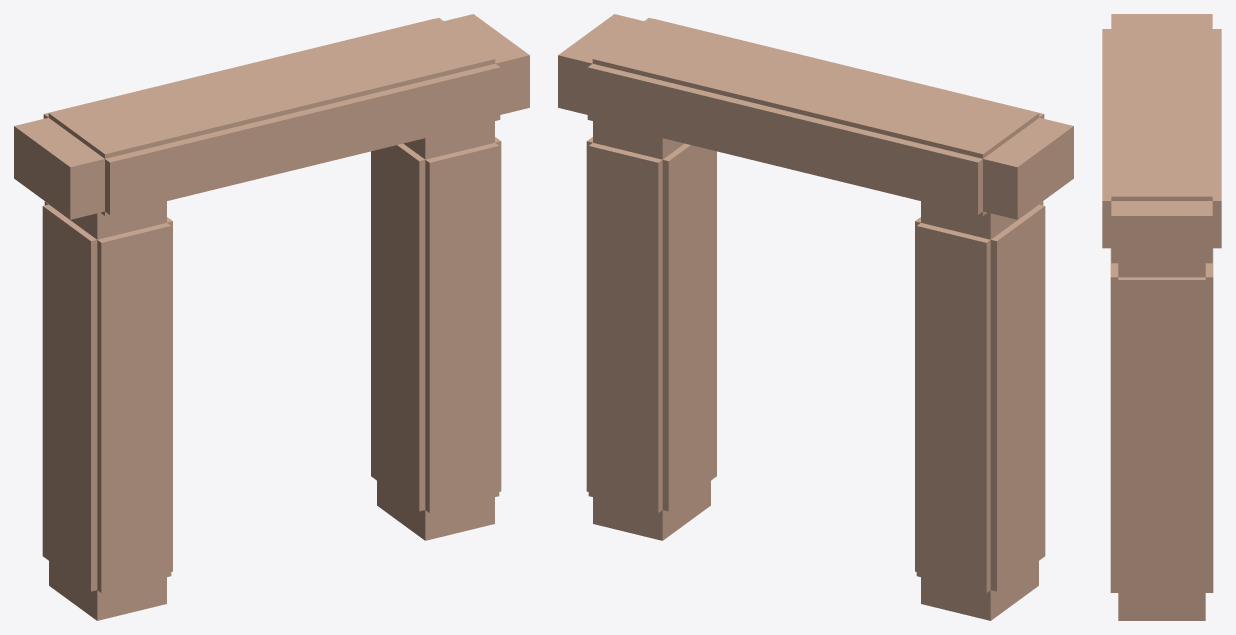
Rendered from env_volcano_rock_arch.glb.
3 renders of one model, left to right at view 1: azimuth 30°, elevation 25°; view 2: azimuth 150°, elevation 25°; view 3: azimuth 270°, elevation 25°, orthographic. The views are drawn at different scales.
Parts seen in each view (by area): view 1: box; view 2: box; view 3: box.
Part boxes in pixels (x1=…): box: x1=14, y1=14, x2=529, y2=620; box: x1=558, y1=14, x2=1073, y2=620; box: x1=1102, y1=14, x2=1221, y2=620.
Size of the model in its own units: 2.8 by 2.73 by 0.7.
